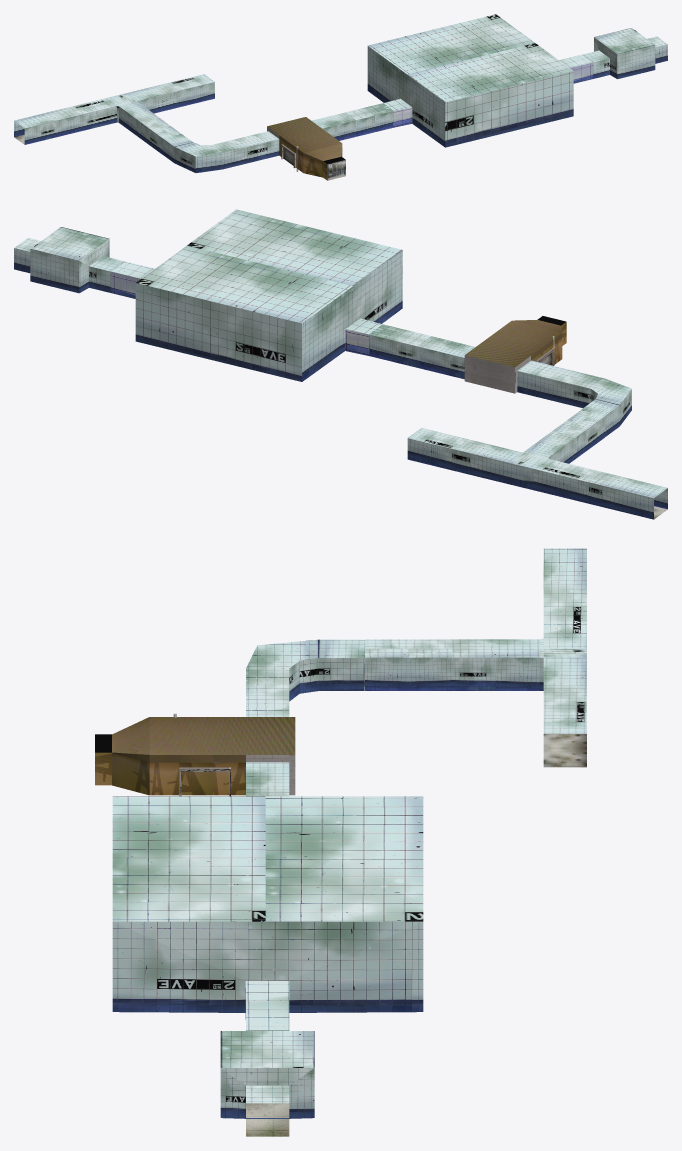
Rendered from metro boomin (1).fbx.
3 renders of one model, top to bottom at view 1: azimuth 30°, elevation 25°; view 2: azimuth 150°, elevation 25°; view 3: azimuth 270°, elevation 25°, orthographic. The views are drawn at different scales.
Parts seen in each view (by area): view 1: Big room, hallway T bone, hallway right turn, Small room, Plane, Hallway; view 2: Big room, hallway T bone, Small room, Plane, hallway right turn, Hallway; view 3: Big room, hallway T bone, Plane, Small room, hallway right turn, Hallway.
Part boxes in pixels (<box>): Big room: <box>367,14,593,147</box>; hallway T bone: <box>14,74,214,154</box>; hallway right turn: <box>163,131,279,172</box>; Small room: <box>583,28,667,79</box>; Plane: <box>267,117,345,180</box>; Hallway: <box>312,103,393,140</box>; Big room: <box>110,209,402,381</box>; hallway T bone: <box>407,410,667,519</box>; Small room: <box>14,227,123,293</box>; Plane: <box>464,316,566,393</box>; hallway right turn: <box>517,360,631,436</box>; Hallway: <box>369,324,475,379</box>; Big room: <box>112,796,423,1030</box>; hallway T bone: <box>365,548,586,767</box>; Plane: <box>95,717,295,795</box>; Small room: <box>220,1030,314,1136</box>; hallway right turn: <box>246,639,364,716</box>; Hallway: <box>246,762,289,796</box>.
Bounding box in the file's own units: 29080 × 2364 × 10896.
